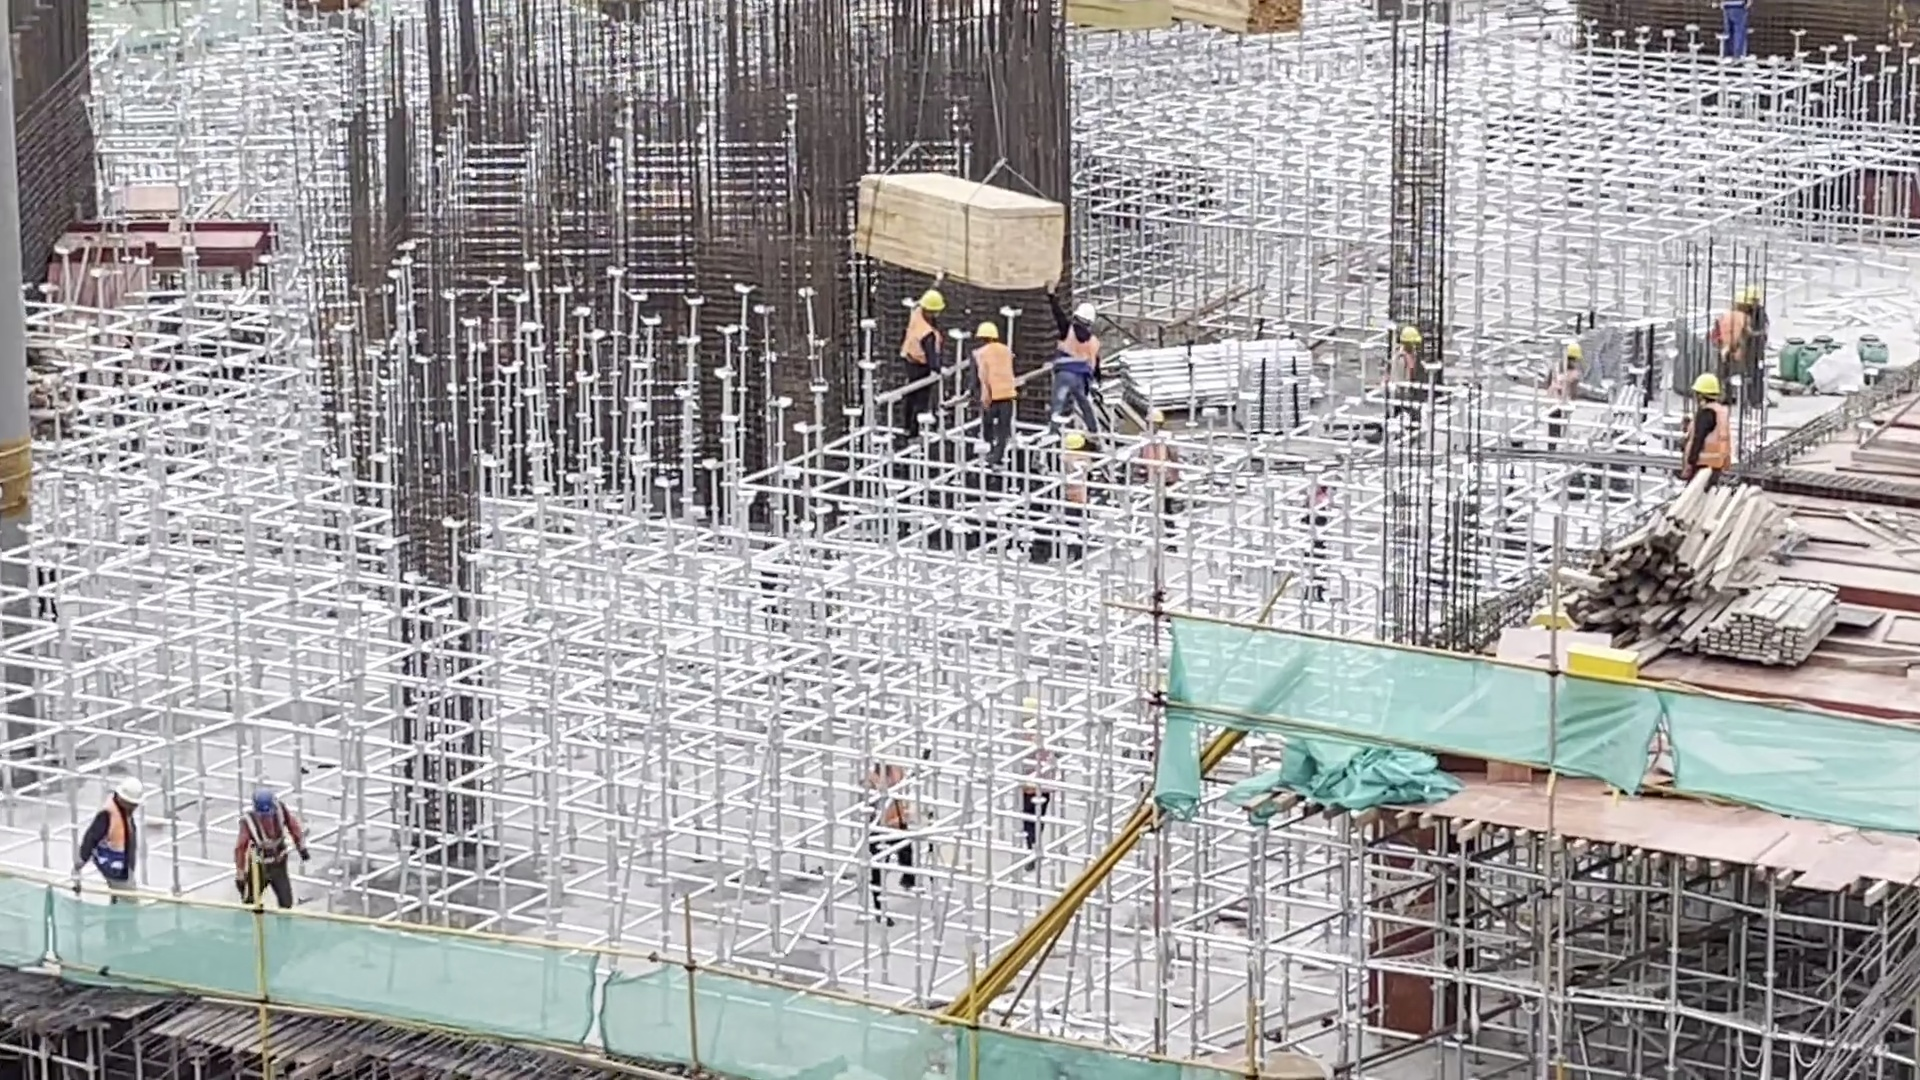helmet: (250, 785, 283, 816), (115, 774, 146, 805), (919, 289, 947, 315), (1072, 302, 1098, 323), (974, 321, 1000, 341)
person: (860, 748, 924, 937), (1046, 277, 1104, 445), (71, 770, 144, 896), (231, 786, 304, 903), (962, 319, 1013, 468), (898, 281, 946, 428), (1678, 370, 1729, 488), (1138, 401, 1186, 528), (1017, 737, 1057, 866), (1542, 332, 1586, 450), (1704, 292, 1746, 372), (1055, 430, 1088, 532), (1389, 325, 1426, 390)
vest: (1684, 402, 1733, 470), (93, 811, 137, 880), (246, 804, 291, 869), (901, 308, 944, 368), (1052, 325, 1100, 378), (975, 343, 1017, 401)
